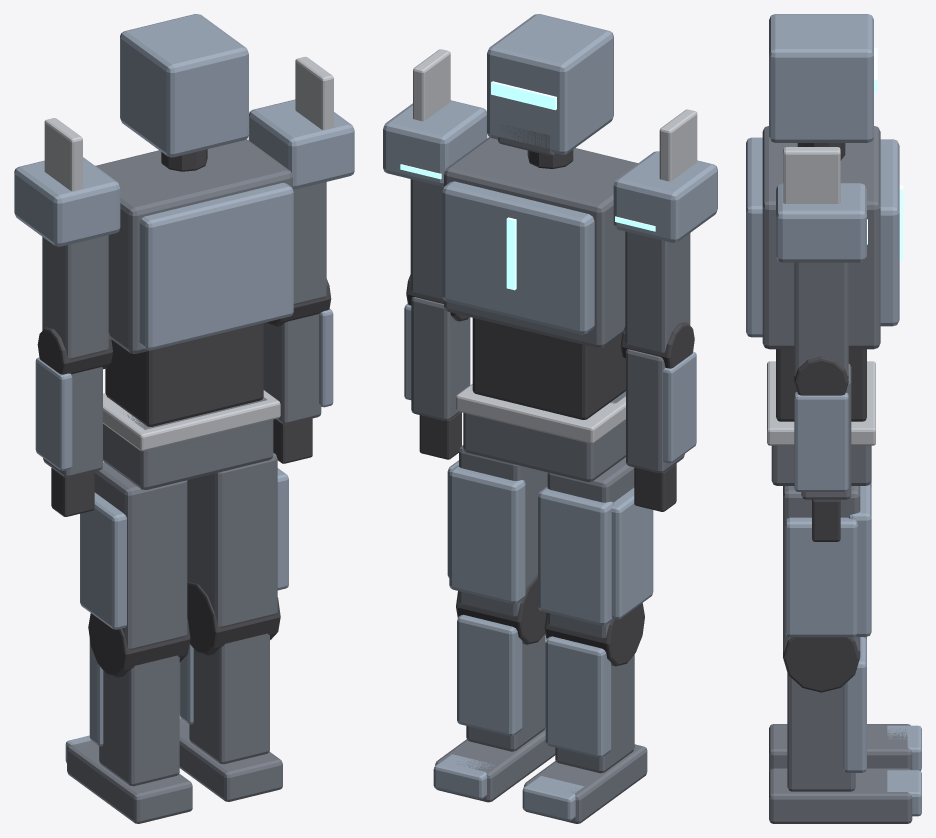
File: robot_g3.glb
3 renders of one model, left to right at view 1: azimuth 30°, elevation 25°; view 2: azimuth 150°, elevation 25°; view 3: azimuth 270°, elevation 25°, orthographic. The views are drawn at different scales.
Visible parts, largest first — view 1: back_plate, head, thigh2, chest, abdomen, thigh0, shin0, shin2, pelvis, upperarm0, pauldron0, pauldron2 (+20 smaller); view 2: chest_plate, head, chest, abdomen, thigh_plate2, thigh_plate0, shin_plate0, shin_plate2, upperarm0, pauldron0, pelvis, forearm2 (+25 smaller); view 3: head, chest, thigh_side2, shin2, pauldron2, foot2, upperarm2, forearm_plate2, chest_plate, knee2, back_plate, fins (+13 smaller).
Part boxes in pixels (x1,y1,x2,y2): back_plate: (139, 183, 293, 350); head: (120, 14, 248, 157); thigh2: (187, 452, 277, 627); chest: (95, 139, 292, 353); abdomen: (105, 323, 263, 426); thigh0: (94, 462, 187, 649); shin0: (99, 655, 179, 786); shin2: (189, 633, 269, 764); pelvis: (103, 397, 273, 489); upperarm0: (42, 235, 108, 359); pauldron0: (14, 157, 120, 246); pauldron2: (248, 99, 354, 189); chest_plate: (442, 181, 594, 334); head: (487, 14, 613, 154); chest: (444, 137, 637, 348); abdomen: (472, 318, 625, 419); thigh_plate2: (449, 465, 525, 603); thigh_plate0: (538, 487, 613, 625); shin_plate0: (545, 636, 611, 757); shin_plate2: (457, 614, 522, 736); upperarm0: (625, 231, 690, 353); pauldron0: (613, 151, 717, 242); pelvis: (463, 391, 625, 481); forearm2: (411, 297, 470, 420); head: (769, 14, 873, 142); chest: (762, 126, 880, 349); thigh_side2: (785, 517, 857, 637); shin2: (787, 673, 855, 791); pauldron2: (776, 183, 866, 262); foot2: (769, 768, 912, 823); upperarm2: (794, 262, 848, 376); forearm_plate2: (794, 392, 848, 491); chest_plate: (880, 139, 899, 326); knee2: (783, 637, 860, 692); back_plate: (746, 137, 762, 337); fins: (783, 147, 840, 203).
Size of the model in its own units: 0.7545 by 1.8 by 0.3785.
